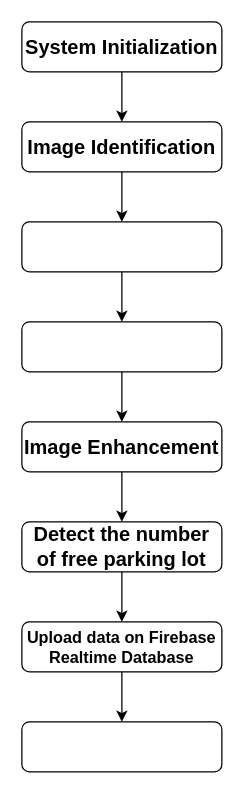
The diagram is 244 pixels wide and 794 high, and some of its shapes have lost their labels. Here are the shapes that lost their labels. From the top down, the box of each, then its label:
(21, 221, 222, 272): Image Acquisition
(21, 321, 222, 372): Image Conversion
(21, 721, 222, 772): Get data and display on user application
